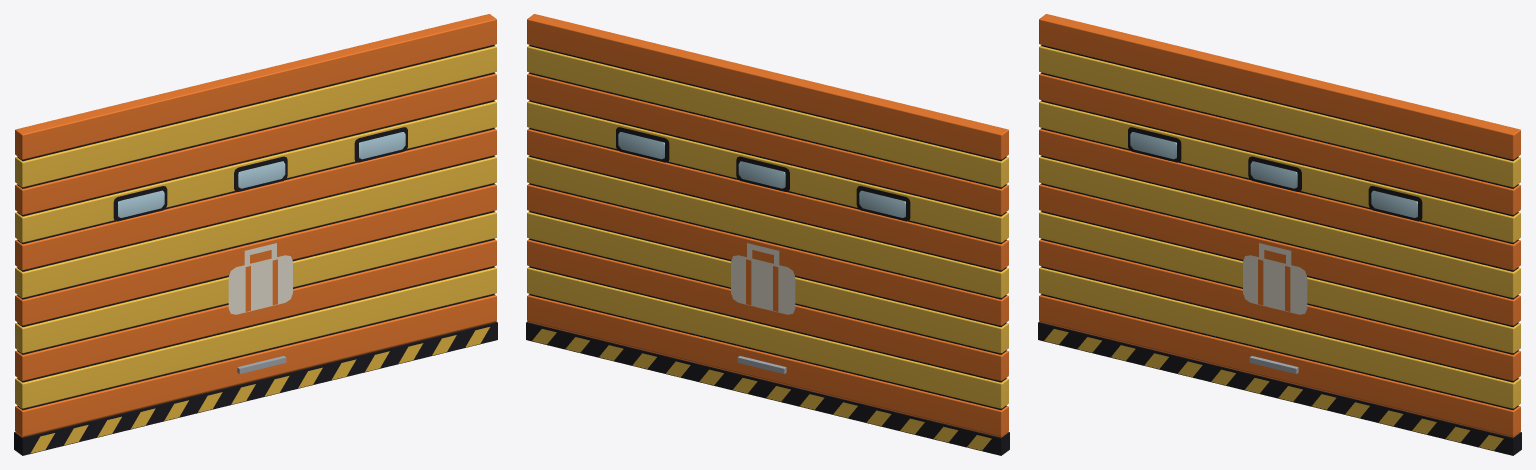
The model's file is PersianaNave.fbx.
3 renders of one model, left to right at view 1: azimuth 30°, elevation 25°; view 2: azimuth 150°, elevation 25°; view 3: azimuth 330°, elevation 25°, orthographic.
Visible parts, largest first — view 1: PersianaNave; view 2: PersianaNave; view 3: PersianaNave.
Part boxes in pixels (x1,y1,x2,y2): PersianaNave: (14,14,497,455); PersianaNave: (526,14,1009,455); PersianaNave: (1038,14,1521,455).
Size of the model in its own units: 14.2 by 9.16 by 0.72.
1 material, 1 textured.
